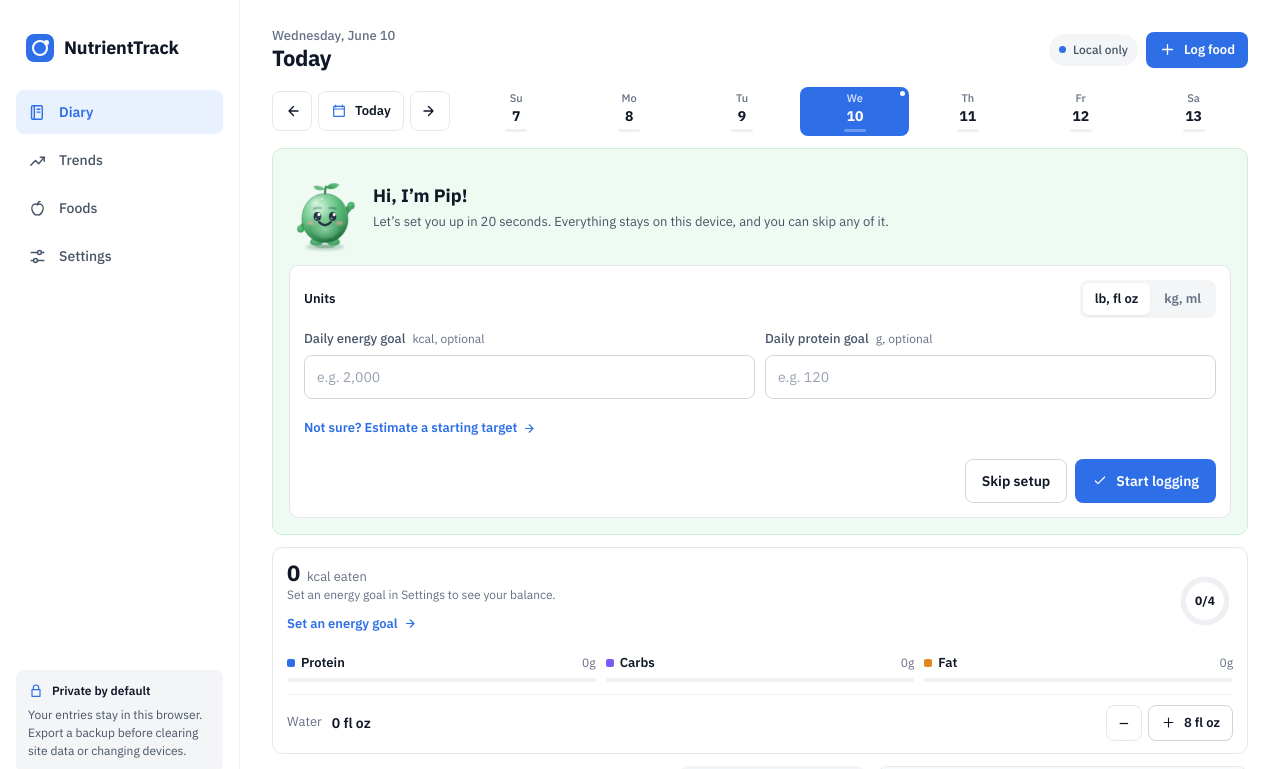
Test: Nutrient contributors panel › says_nothing_is_logged_for_an_empty_diary_in_each_range
What coordinates should you click on to do the following:
click the button "Trends"
I would click on:
 (120, 160)
Its box is [16,138,223,182].
(page scrolled)
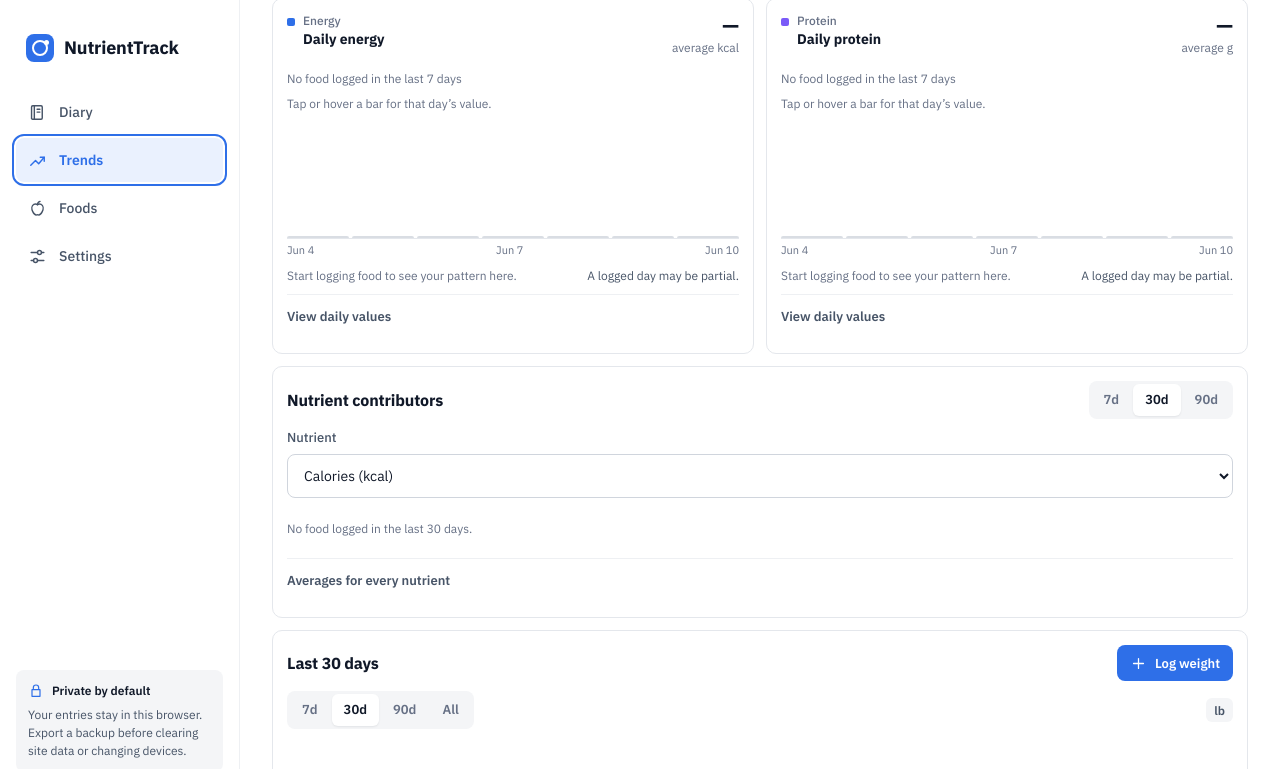
Result: the text "No food logged in the last 30 days." is shown at [287,521,472,536]
What coordinates should you click on to do the following:
click the button named "Contributors, last 7 days"
I would click on:
 (1111, 400)
Its box is [1092,384,1131,416].
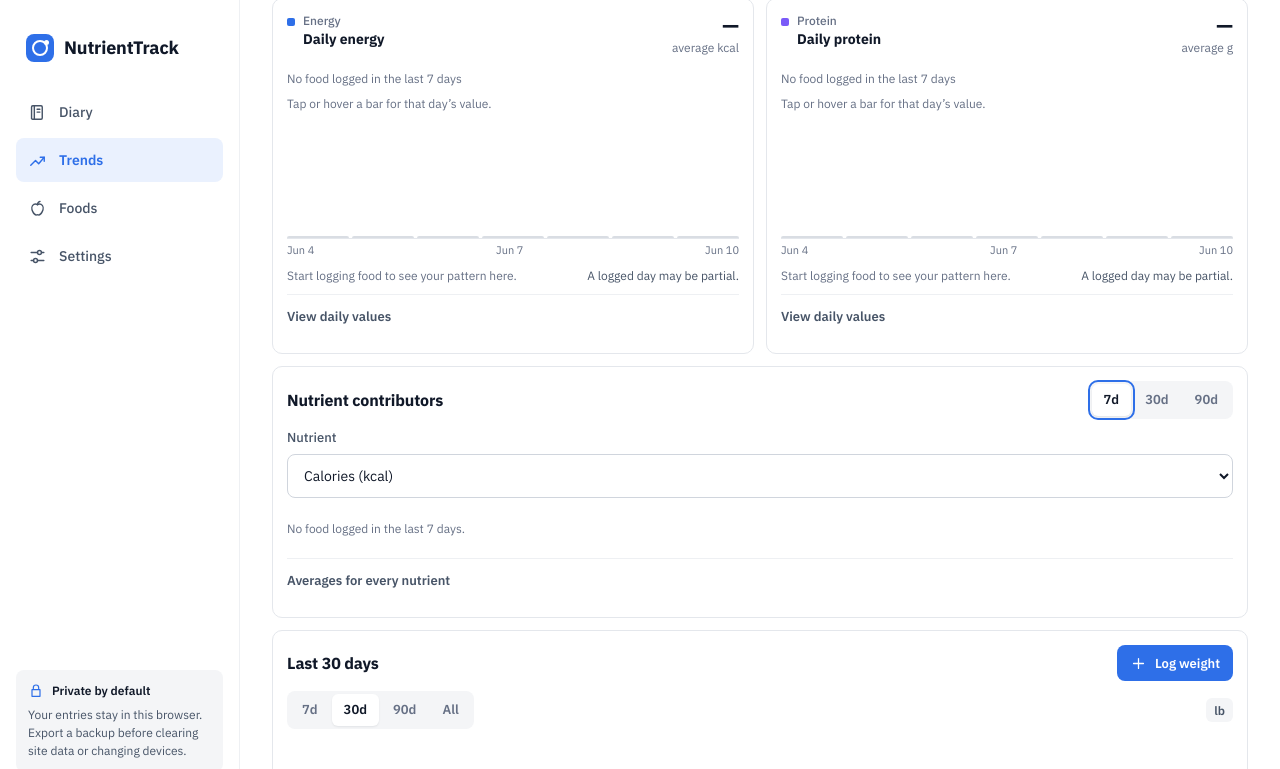
Result: the text "No food logged in the last 7 days." is shown at [287,521,465,536]
What coordinates should you click on to do the following:
click the button named "Contributors, last 90 days"
I would click on:
 (1206, 400)
Its box is [1183,384,1230,416].
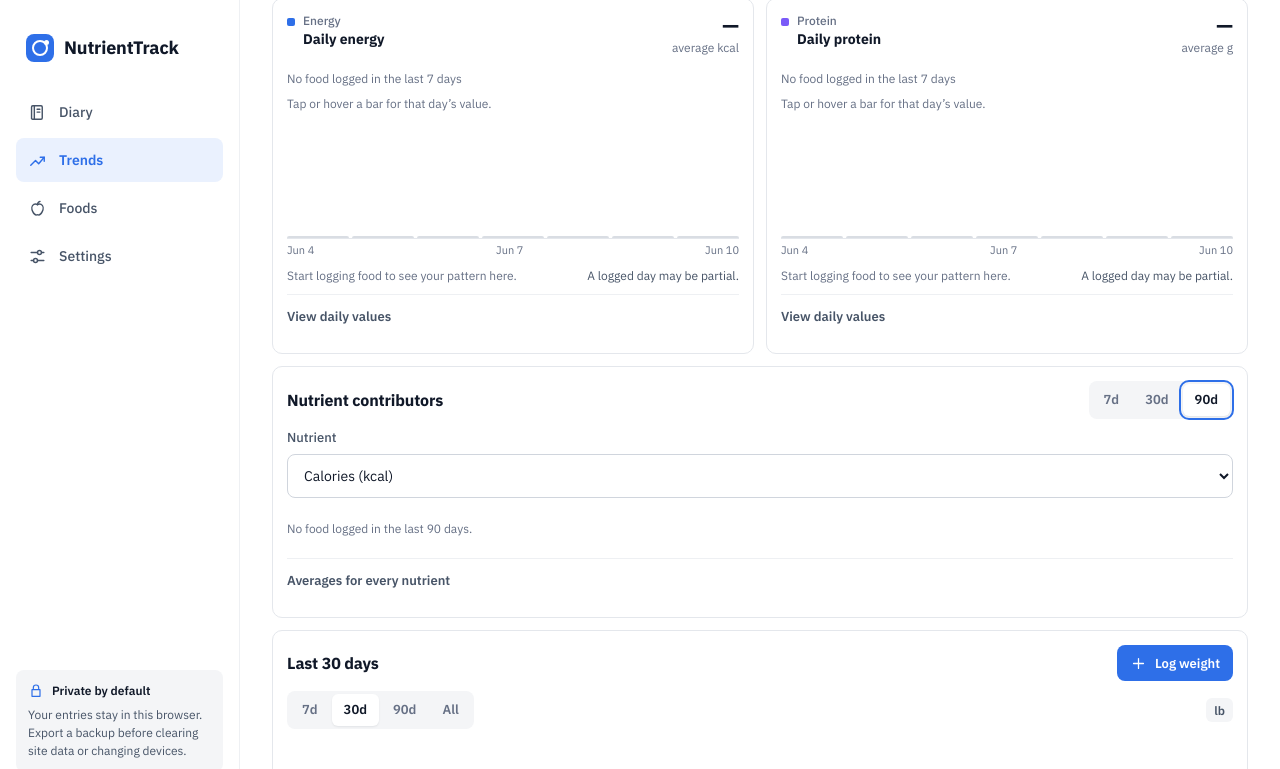
Result: the text "No food logged in the last 90 days." is shown at [287,521,472,536]
